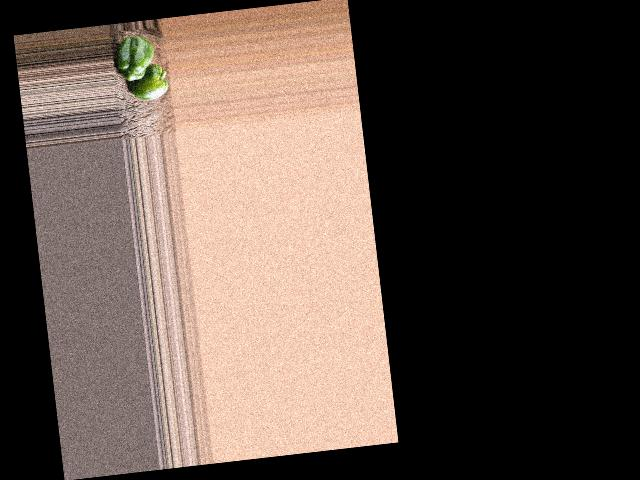bell_pepper: (115, 34, 157, 83)
